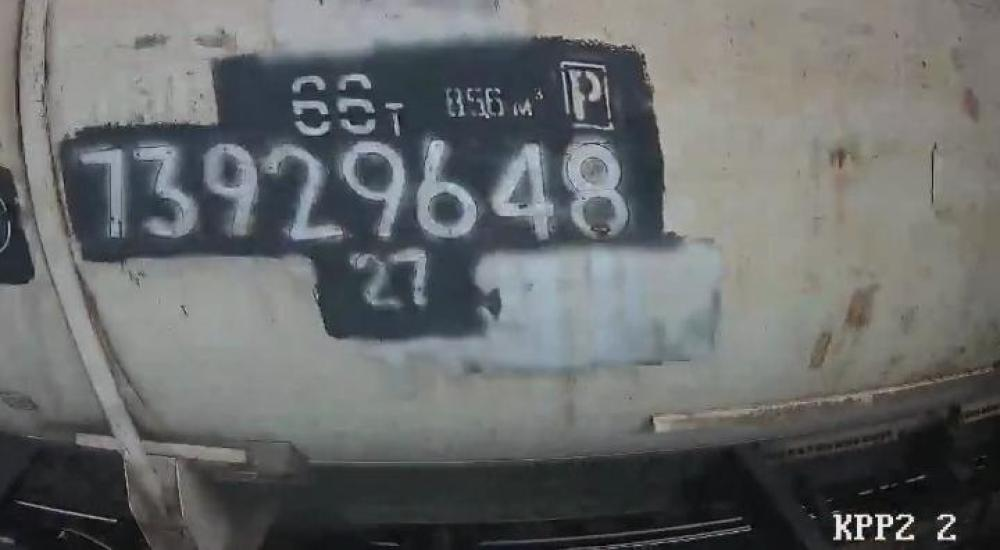Wagon-number: (76, 136, 636, 249)
